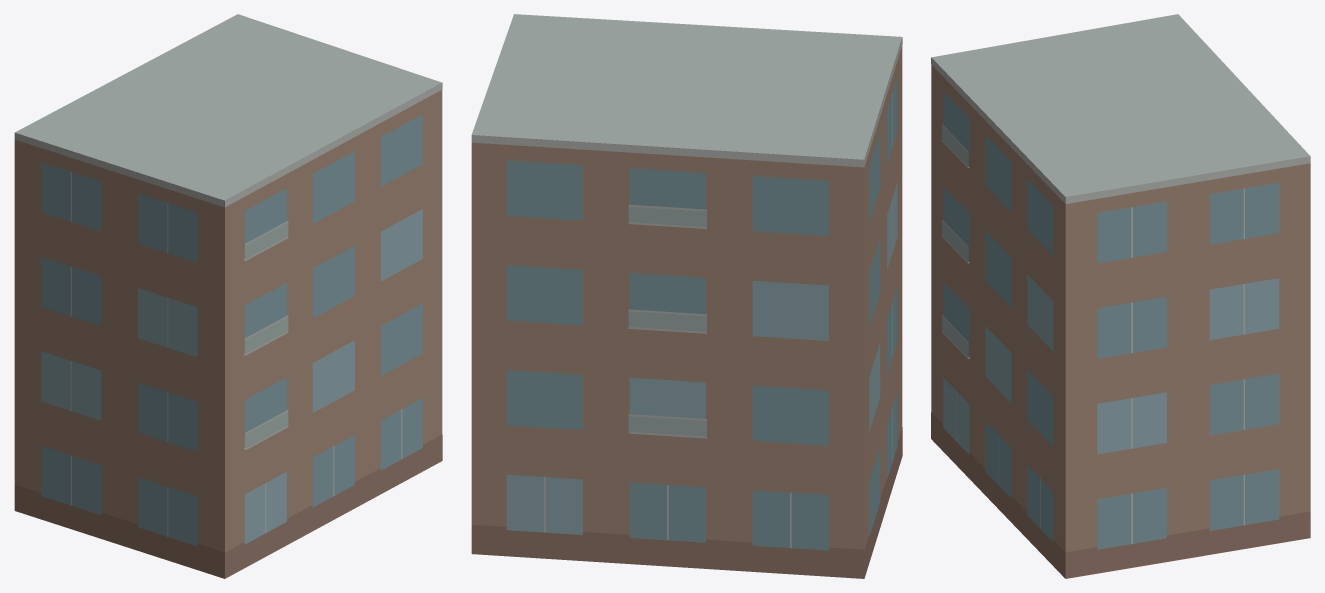
The model's file is survey-upis-32576049.glb.
3 views of the same model, side by side, from view 1: azimuth 30°, elevation 25°; view 2: azimuth 150°, elevation 25°; view 3: azimuth 270°, elevation 25° (orthographic). The views are drawn at different scales.
Visible parts, largest first — view 1: survey-upis-32576049.tmp; view 2: survey-upis-32576049.tmp; view 3: survey-upis-32576049.tmp.
Part boxes in pixels (left/top/right/bottom): survey-upis-32576049.tmp: left=14, top=14, right=442, bottom=578; survey-upis-32576049.tmp: left=471, top=14, right=902, bottom=578; survey-upis-32576049.tmp: left=931, top=14, right=1310, bottom=578.
Size of the model in its own units: 13.8 by 13.4 by 12.08.
